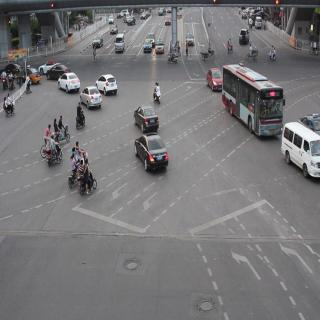Car: (132, 130, 171, 177)
